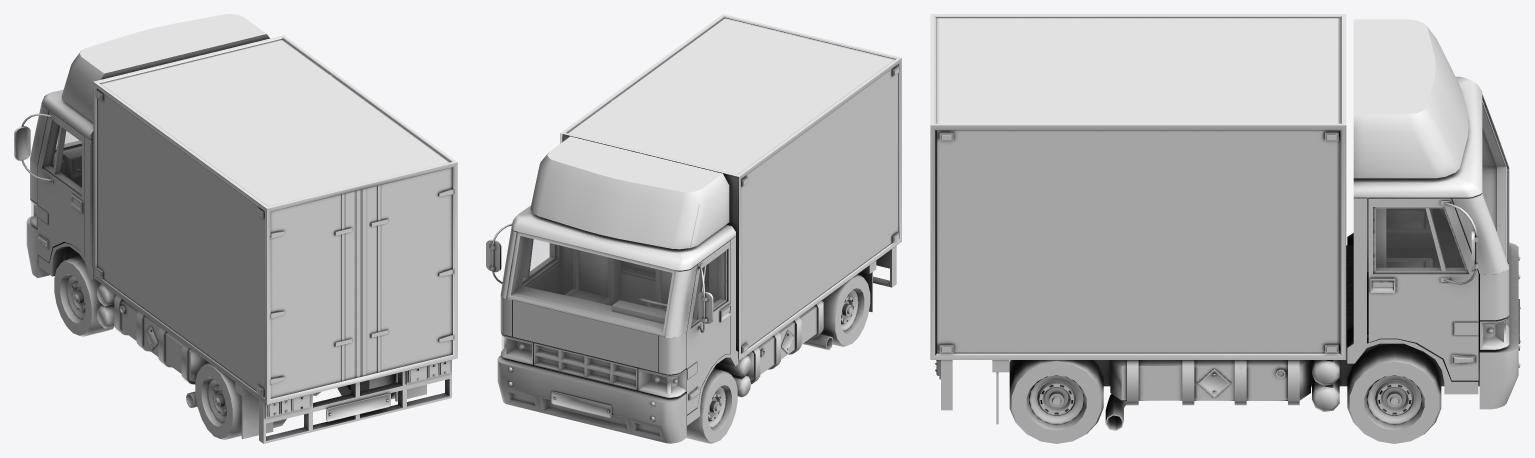
The model's file is asset.gltf.
3 renders of one model, left to right at view 1: azimuth 30°, elevation 25°; view 2: azimuth 150°, elevation 25°; view 3: azimuth 270°, elevation 25°, orthographic. The views are drawn at different scales.
Visible parts, largest first — view 1: Box002, Object001__0; view 2: Box002, Object001__0; view 3: Box002, Object001__0.
Boxes of the visible parts, x1,y1,x2,y2 form: Box002: (14,14,457,443); Object001__0: (31,123,81,223); Box002: (486,14,901,443); Object001__0: (502,236,723,395); Box002: (930,14,1520,443); Object001__0: (1367,107,1507,346).
Size of the model in its own units: 189 by 203 by 335.
Materials: 2 (1 with a texture image).
